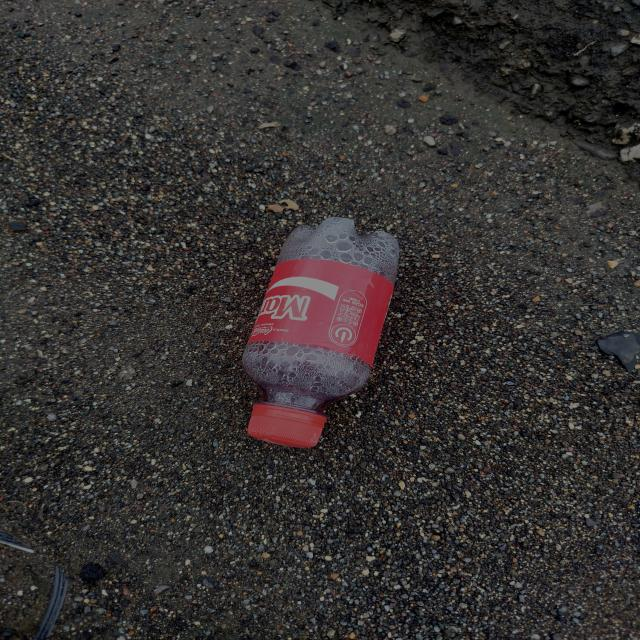plastic: (222, 189, 414, 468)
